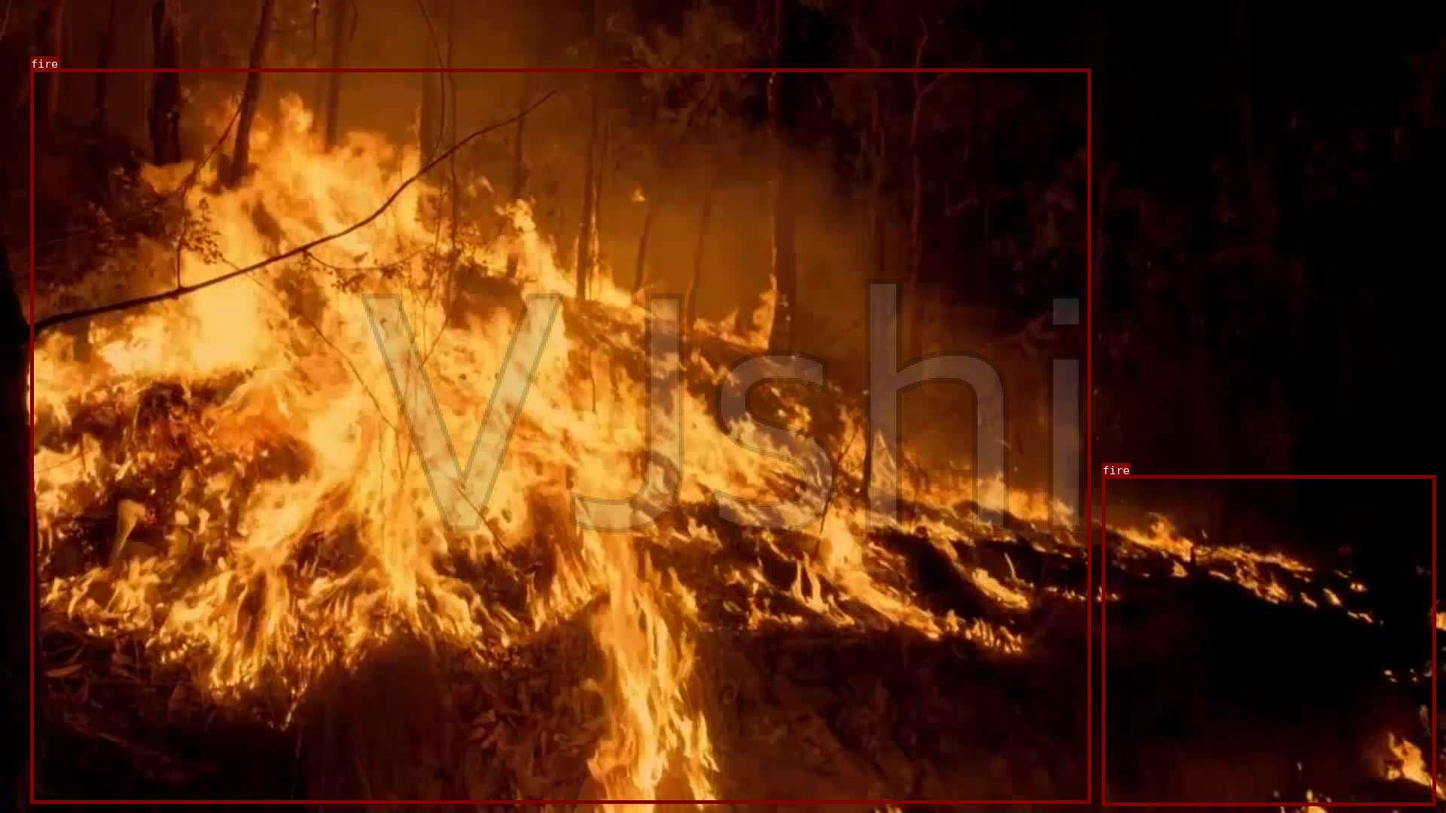fire: (30, 68, 1090, 803), (1102, 475, 1435, 805)
